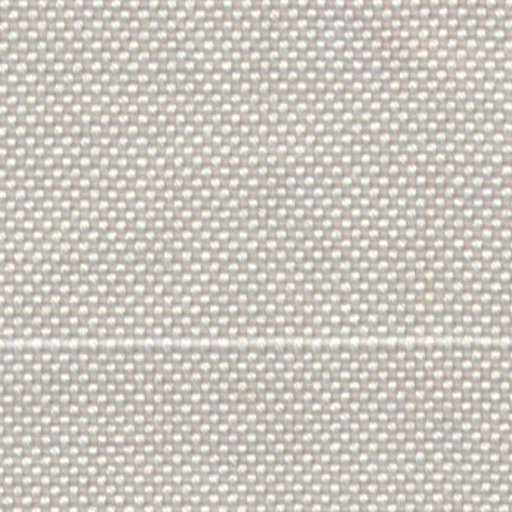TuoSha: (9, 310, 500, 380)
